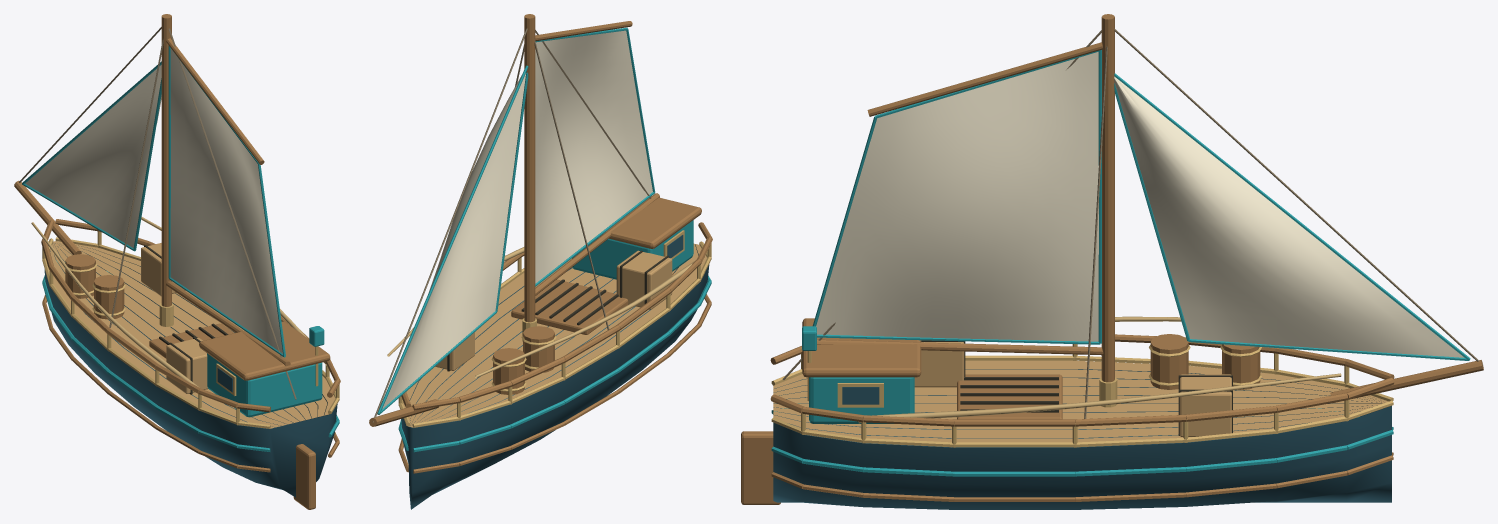
File: ship_sloop.glb
3 renders of one model, left to right at view 1: azimuth 30°, elevation 25°; view 2: azimuth 150°, elevation 25°; view 3: azimuth 270°, elevation 25°, orthographic. The views are drawn at different scales.
Parts seen in each view (by area): view 1: Sloop curved hull; view 2: Sloop curved hull; view 3: Sloop curved hull.
Boxes of the visible parts, x1=… form: Sloop curved hull: x1=14, y1=14, x2=340, y2=509; Sloop curved hull: x1=369, y1=14, x2=712, y2=509; Sloop curved hull: x1=741, y1=14, x2=1483, y2=509.
Bounding box in the file's own units: 2.12 × 5.34 × 7.38.
